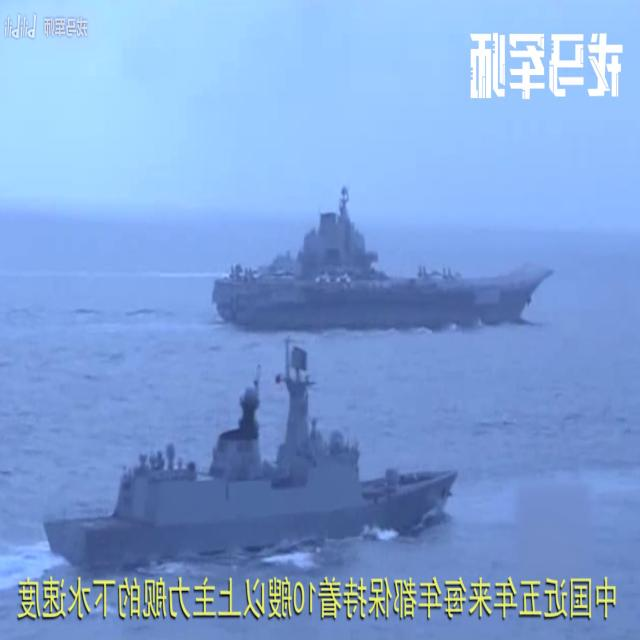houseboat: (45, 337, 455, 575), (212, 198, 554, 331)
